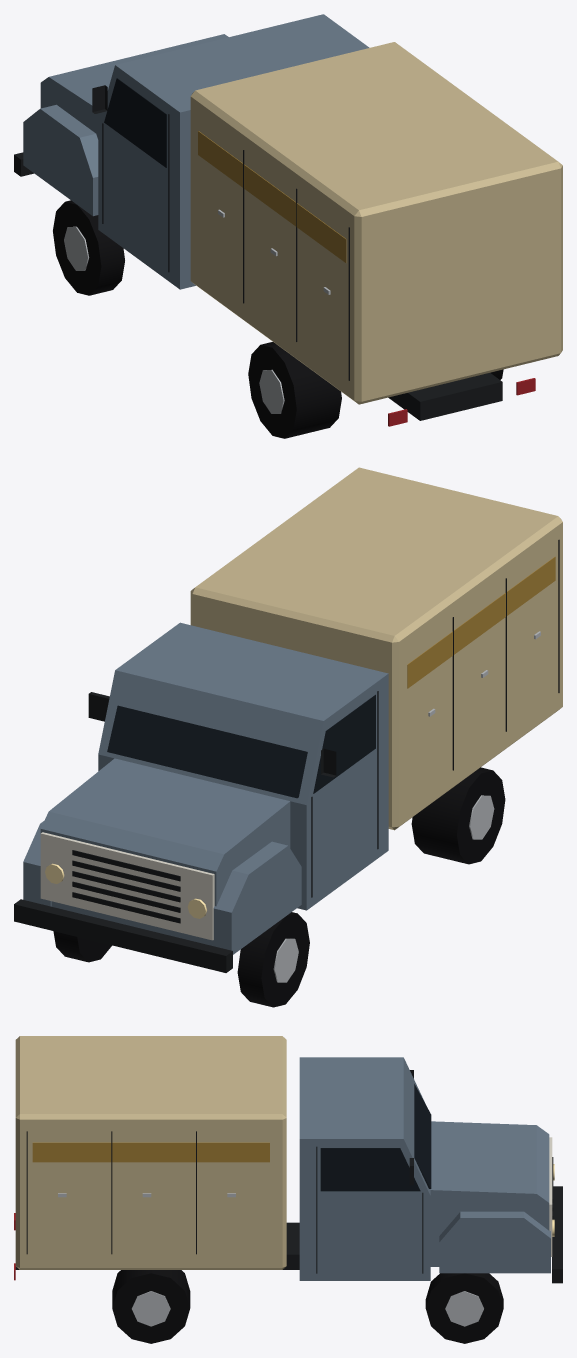
File: car-bread.glb
3 renders of one model, top to bottom at view 1: azimuth 30°, elevation 25°; view 2: azimuth 150°, elevation 25°; view 3: azimuth 270°, elevation 25°, orthographic. The views are drawn at different scales.
Visible parts, largest first — view 1: 08_#c8b890_r320, 00_#6a7a8a_r320, 05_#141416_r320, 02_#1e2022_noshadow_r110, 09_#a8843c_noshadow_r320, 01_#1a2026_noshadow_r320, 06_#b8bcc0_noshadow_r110, 07_#a3262c_noshadow_r110; view 2: 08_#c8b890_r320, 00_#6a7a8a_r320, 01_#1a2026_noshadow_r320, 02_#1e2022_noshadow_r110, 05_#141416_r320, 03_#e0dcd0_r320, 09_#a8843c_noshadow_r320, 06_#b8bcc0_noshadow_r110; view 3: 08_#c8b890_r320, 00_#6a7a8a_r320, 05_#141416_r320, 01_#1a2026_noshadow_r320, 09_#a8843c_noshadow_r320, 02_#1e2022_noshadow_r110, 06_#b8bcc0_noshadow_r110, 03_#e0dcd0_r320.
Part boxes in pixels (left/top/right/bottom): 08_#c8b890_r320: left=190, top=42, right=562, bottom=404; 00_#6a7a8a_r320: left=23, top=14, right=369, bottom=289; 05_#141416_r320: left=53, top=200, right=503, bottom=438; 02_#1e2022_noshadow_r110: left=14, top=85, right=502, bottom=420; 09_#a8843c_noshadow_r320: left=198, top=131, right=346, bottom=262; 01_#1a2026_noshadow_r320: left=104, top=78, right=166, bottom=167; 06_#b8bcc0_noshadow_r110: left=64, top=209, right=330, bottom=413; 07_#a3262c_noshadow_r110: left=388, top=378, right=535, bottom=426; 08_#c8b890_r320: left=190, top=467, right=562, bottom=830; 00_#6a7a8a_r320: left=23, top=622, right=388, bottom=954; 01_#1a2026_noshadow_r320: left=107, top=694, right=375, bottom=798; 02_#1e2022_noshadow_r110: left=14, top=539, right=559, bottom=972; 05_#141416_r320: left=53, top=767, right=505, bottom=1007; 03_#e0dcd0_r320: left=40, top=832, right=214, bottom=940; 09_#a8843c_noshadow_r320: left=407, top=556, right=555, bottom=688; 06_#b8bcc0_noshadow_r110: left=273, top=631, right=540, bottom=982; 08_#c8b890_r320: left=15, top=1036, right=286, bottom=1269; 00_#6a7a8a_r320: left=299, top=1057, right=550, bottom=1280; 05_#141416_r320: left=112, top=1270, right=503, bottom=1343; 01_#1a2026_noshadow_r320: left=320, top=1084, right=431, bottom=1191; 09_#a8843c_noshadow_r320: left=32, top=1142, right=269, bottom=1162; 02_#1e2022_noshadow_r110: left=15, top=1070, right=562, bottom=1283; 06_#b8bcc0_noshadow_r110: left=58, top=1193, right=483, bottom=1326; 03_#e0dcd0_r320: left=549, top=1137, right=552, bottom=1256.
Size of the model in its own units: 2.68 by 2.97 by 6.48.
